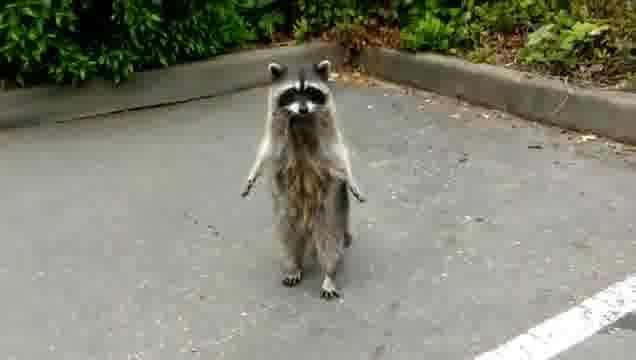raccoon: (233, 54, 370, 305)
